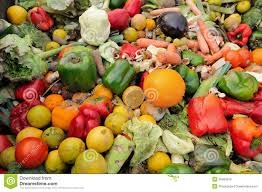kitchen_waste: (1, 32, 52, 81), (140, 66, 190, 113), (123, 114, 165, 167), (185, 90, 231, 135), (56, 51, 106, 92), (227, 114, 262, 160), (220, 66, 262, 102), (101, 55, 138, 93), (12, 136, 52, 170), (192, 16, 220, 57), (72, 148, 109, 174), (13, 77, 48, 104), (84, 124, 118, 150), (51, 102, 82, 129), (159, 11, 191, 37), (144, 148, 176, 173), (57, 135, 88, 160), (203, 42, 234, 66), (24, 104, 55, 126), (30, 5, 56, 31), (4, 2, 31, 24), (106, 7, 133, 29), (44, 148, 69, 171), (42, 125, 67, 147), (223, 11, 243, 34), (236, 43, 254, 68), (130, 11, 151, 30), (224, 47, 241, 67), (122, 26, 138, 42)
